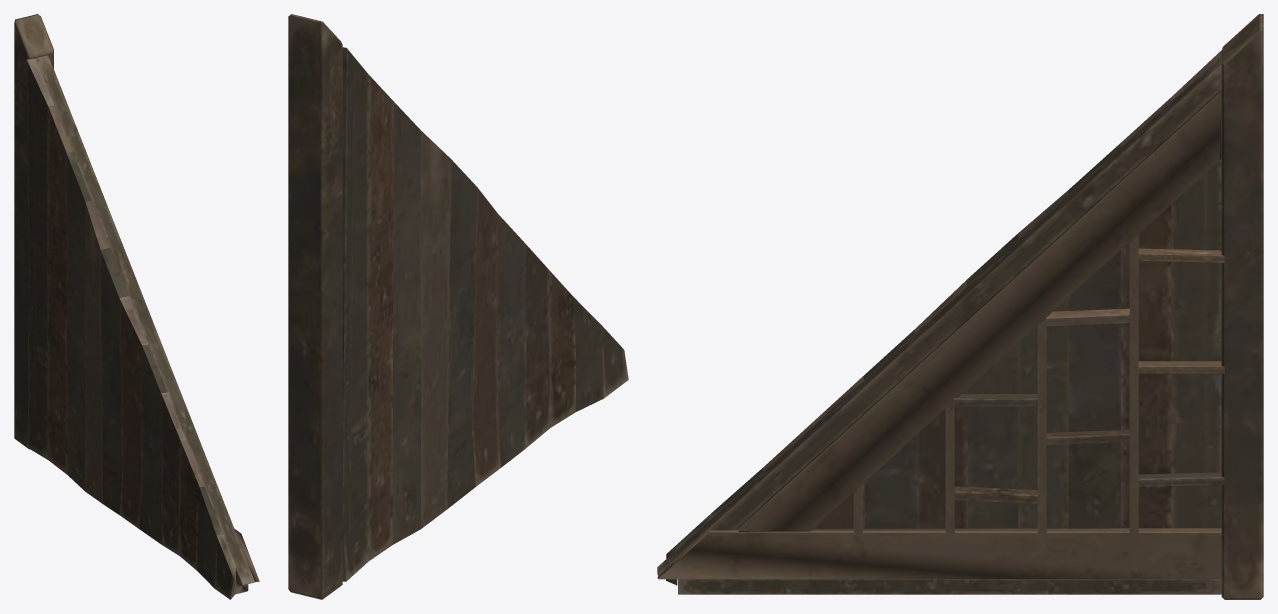
The model's file is wall.frontier.left.glb.
3 views of the same model, side by side, from view 1: azimuth 30°, elevation 25°; view 2: azimuth 150°, elevation 25°; view 3: azimuth 270°, elevation 25° (orthographic). The views are drawn at different scales.
Visible parts, largest first — view 1: roof.wall.left_LOD0; view 2: roof.wall.left_LOD0; view 3: roof.wall.left_LOD0.
Part boxes in pixels (<box>): roof.wall.left_LOD0: <box>14,14,259,599</box>; roof.wall.left_LOD0: <box>288,14,628,599</box>; roof.wall.left_LOD0: <box>657,14,1263,599</box>.
Bounding box in the file's own units: 0.2227 × 3.02 × 2.9.
1 material, 1 textured.
